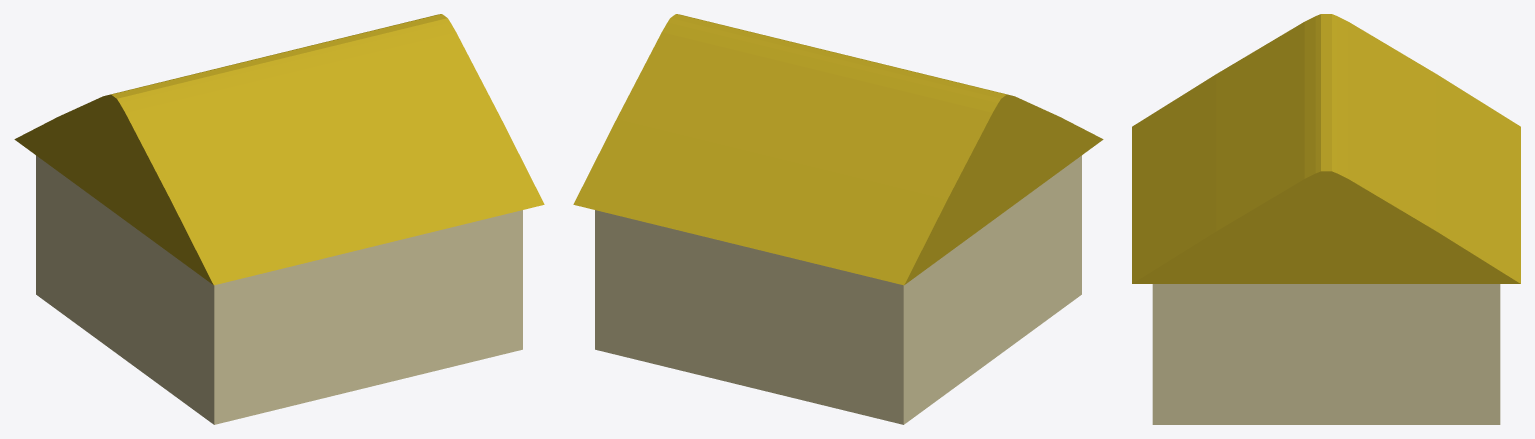
Rendered from SimpleHouse2.fbx.
The picture shows the model from 3 angles, left to right: view 1: azimuth 30°, elevation 25°; view 2: azimuth 150°, elevation 25°; view 3: azimuth 270°, elevation 25°; orthographic projection. The views are drawn at different scales.
Visible parts, largest first — view 1: Cube; view 2: Cube; view 3: Cube.
Part boxes in pixels (x1,y1,x2,y2): Cube: [14, 14, 544, 424]; Cube: [573, 14, 1103, 424]; Cube: [1132, 14, 1520, 424].
Bounding box in the file's own units: 214 × 164 × 224.
